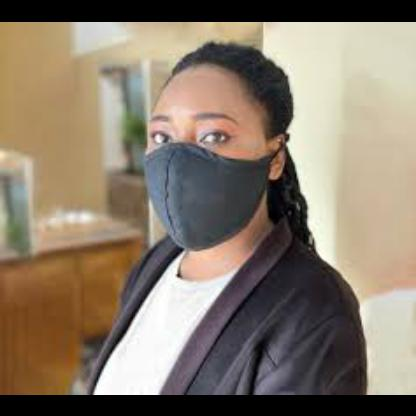Fabric/Cloth Mask: (147, 59, 285, 241)
